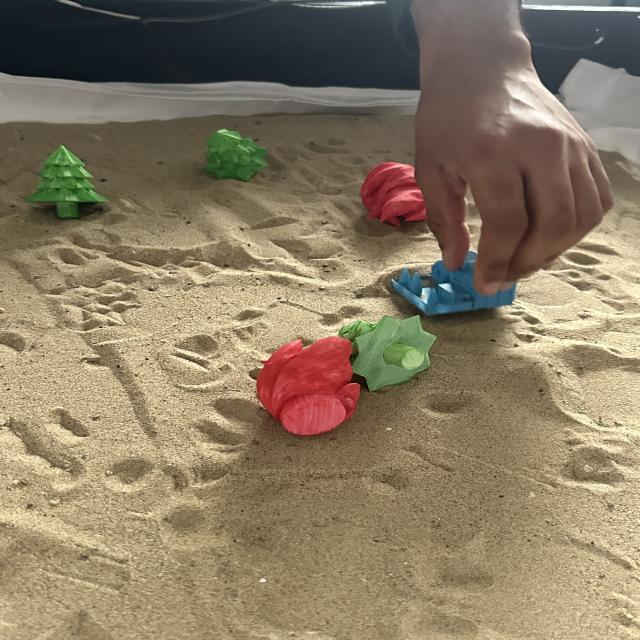fire: (254, 334, 362, 437), (362, 162, 426, 226)
house: (390, 250, 516, 315)
tree: (341, 314, 436, 391), (23, 142, 110, 220), (201, 127, 269, 181)
